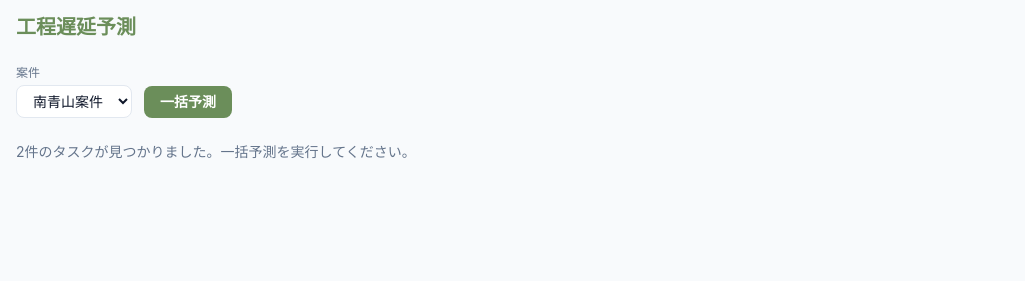
Test: DelayPredictionPage — 予測実行 › 予測後に保存ボタンが表示される
Click the button with test id "predict-btn": (188,102) [144,86,232,118]
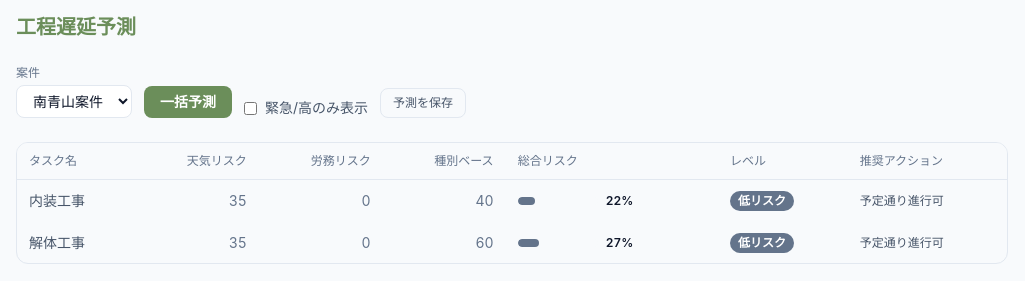
Expected: the button with test id "save-btn" is shown, [380,88,466,118]
